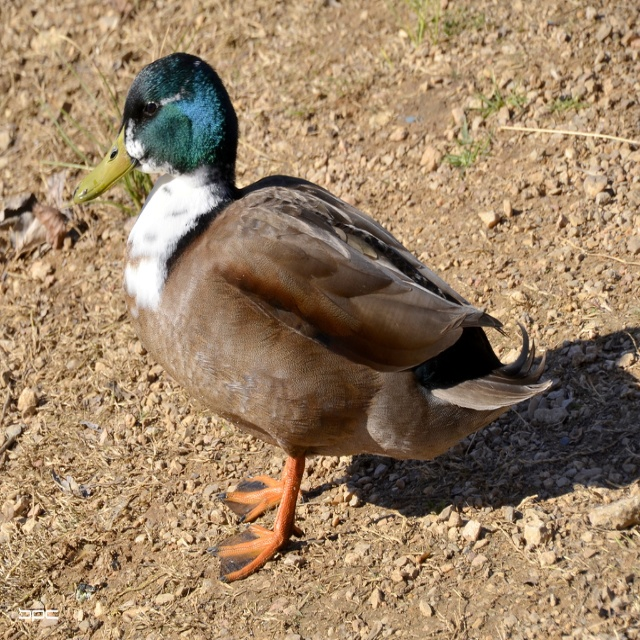Duck: (91, 44, 556, 601)
